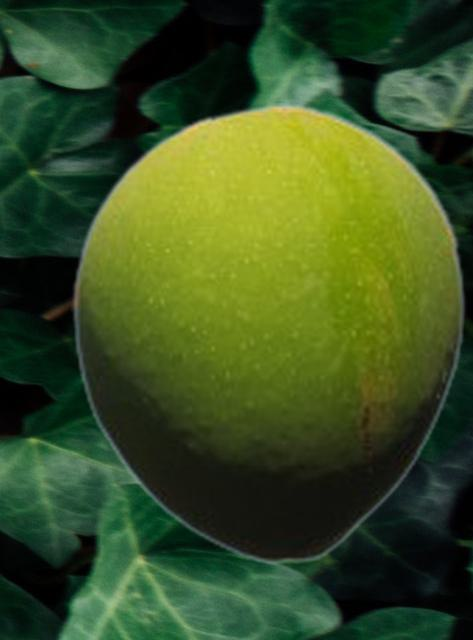green_mango: (71, 103, 466, 565)
